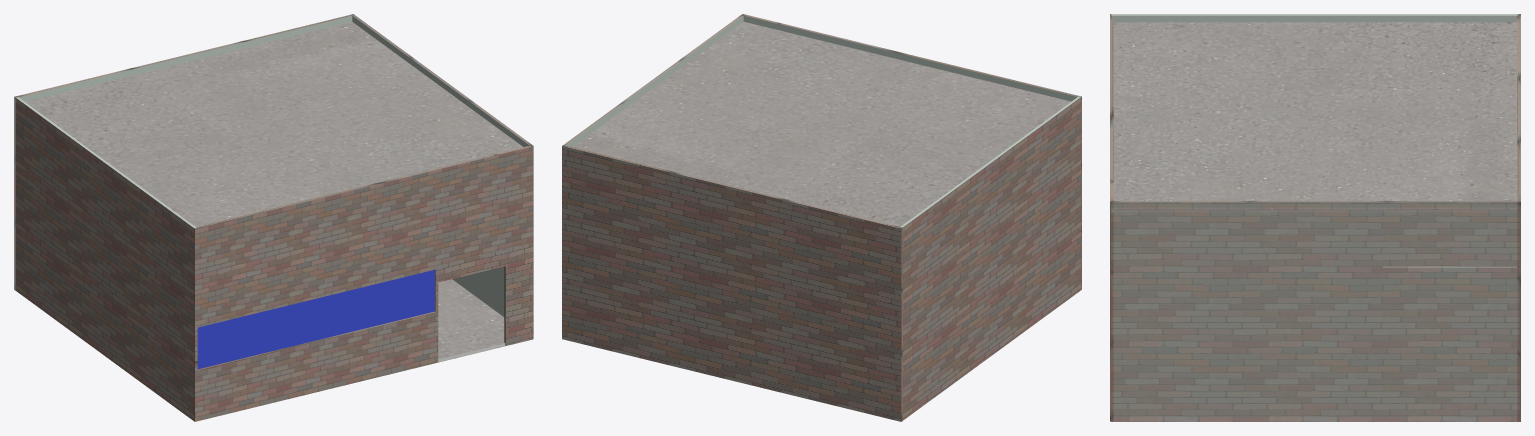
The model's file is World2Building.fbx.
3 views of the same model, side by side, from view 1: azimuth 30°, elevation 25°; view 2: azimuth 150°, elevation 25°; view 3: azimuth 270°, elevation 25° (orthographic). The views are drawn at different scales.
Visible parts, largest first — view 1: FrontWall, Floor.002, SideWall.001, Floor, SideWall, BackWall; view 2: BackWall, Floor.002, SideWall.001, FrontWall, SideWall; view 3: SideWall, Floor.002, SideWall.001, Floor, BackWall, FrontWall, Floor.001, StorageWall.001.
Part boxes in pixels (x1,y1,x2,y2): FrontWall: (194,145,533,421); Floor.002: (25,22,523,226); SideWall.001: (16,97,196,420); Floor: (438,279,505,361); SideWall: (352,15,533,338); BackWall: (14,14,354,290); BackWall: (562,145,902,421); Floor.002: (573,22,1070,226); SideWall.001: (900,96,1081,420); FrontWall: (742,14,1081,289); SideWall: (564,14,743,146); SideWall: (1111,201,1519,421); Floor.002: (1111,22,1517,211); SideWall.001: (1111,14,1519,22); Floor: (1114,417,1516,421); BackWall: (1517,14,1520,421); FrontWall: (1110,14,1113,421); Floor.001: (1383,266,1517,270); StorageWall.001: (1383,271,1385,417).
Size of the model in its own units: 1377 by 749 by 1269.
